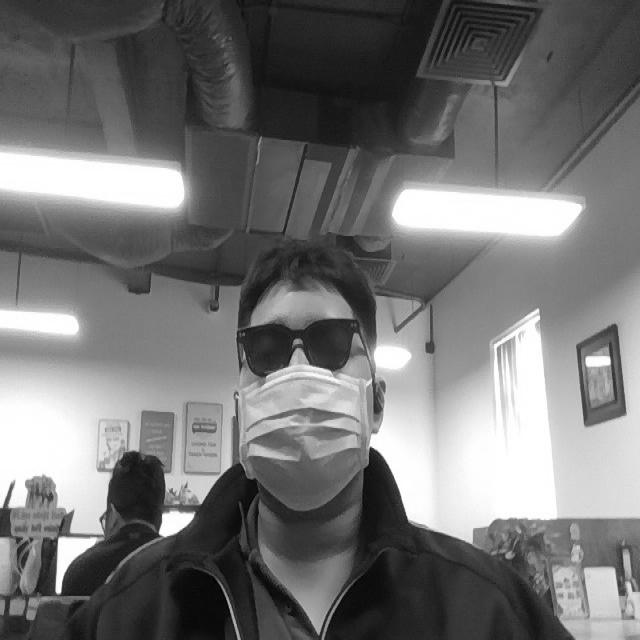fake: (239, 364, 373, 517), (229, 315, 371, 373)
